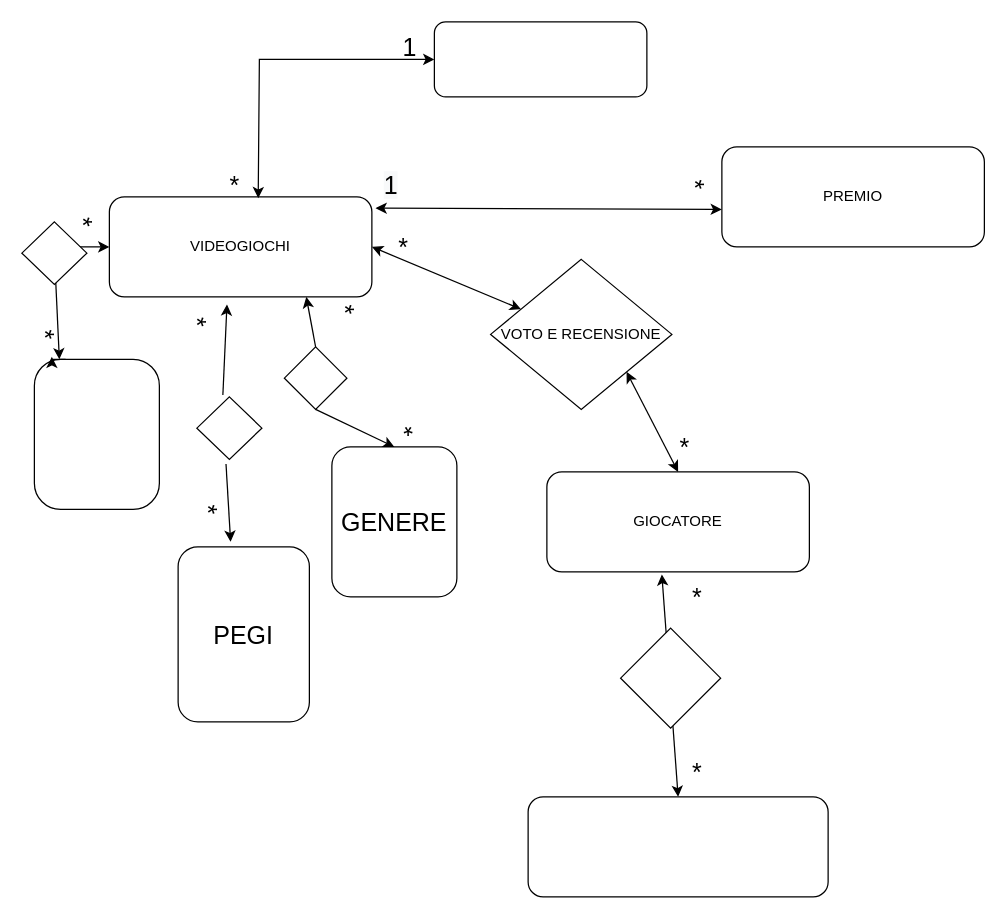
The diagram is 1006 pixels wide and 919 high, and some of its shapes have lost their labels. The centre of each missing label's shape, as x and y in pixels:
"CONSOLE" goes at point (96, 433).
"SOFTWARE HOUSE" goes at point (540, 59).
"TORNEO" goes at point (677, 846).
